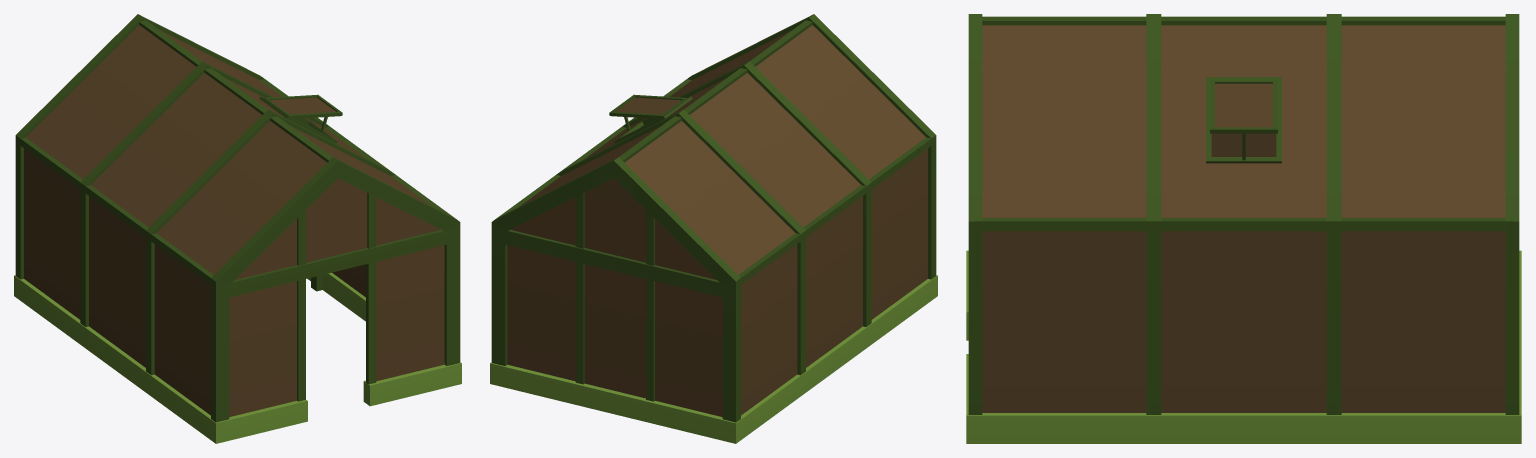
The model's file is Greenhouse_01.fbx.
The picture shows the model from 3 angles, left to right: view 1: azimuth 30°, elevation 25°; view 2: azimuth 150°, elevation 25°; view 3: azimuth 270°, elevation 25°; orthographic projection. The views are drawn at different scales.
Parts seen in each view (by area): view 1: Greenhouse_01; view 2: Greenhouse_01; view 3: Greenhouse_01.
Boxes of the visible parts, x1,y1,x2,y2 form: Greenhouse_01: (14, 14, 461, 443); Greenhouse_01: (490, 14, 937, 443); Greenhouse_01: (966, 14, 1521, 443).
Bounding box in the file's own units: 3.62 × 3.56 × 5.15.
